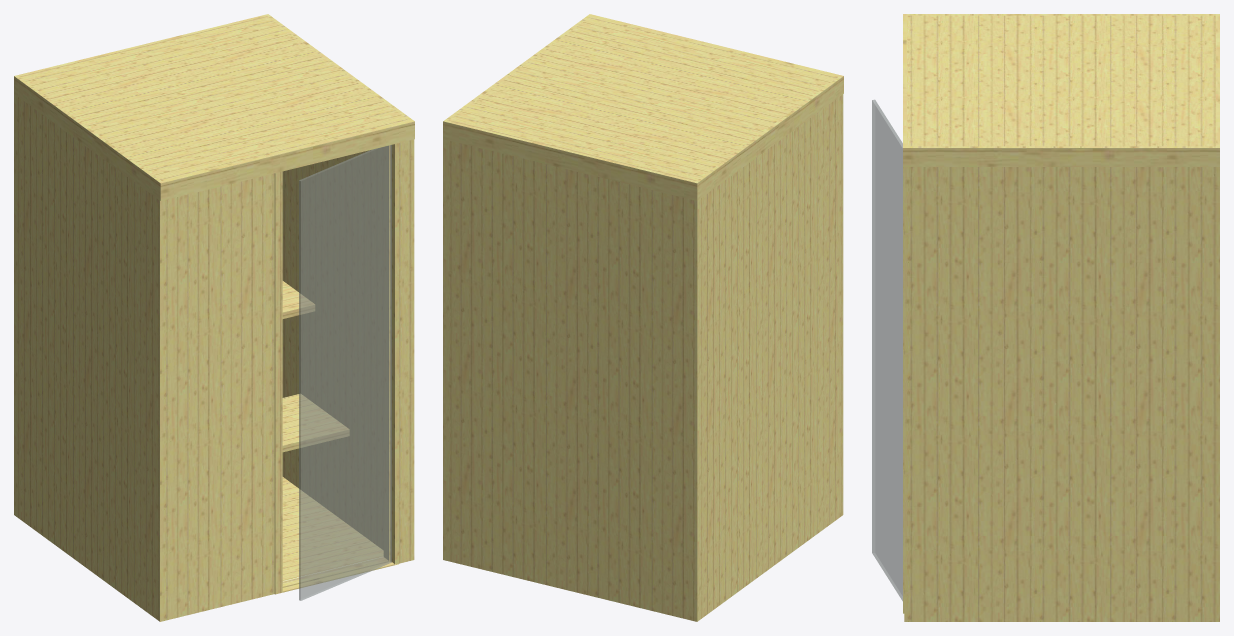
File: sweethome3d-contributions-sauna-404.glb
3 renders of one model, left to right at view 1: azimuth 30°, elevation 25°; view 2: azimuth 150°, elevation 25°; view 3: azimuth 270°, elevation 25°, orthographic. The views are drawn at different scales.
Parts seen in each view (by area): view 1: 2_2, 22_22, 17_17, 1_1, 4_4, 14_14, 23_23, 3_3, 28_28; view 2: 2_2, 17_17, 4_4; view 3: 2_2, 17_17, 22_22, 4_4, 1_1.
Part boxes in pixels (x1,y1,x2,y2): 2_2: [14, 94, 414, 621]; 22_22: [299, 145, 391, 600]; 17_17: [19, 16, 409, 181]; 1_1: [274, 143, 398, 594]; 4_4: [14, 14, 414, 200]; 14_14: [282, 477, 383, 580]; 23_23: [282, 394, 349, 452]; 3_3: [282, 557, 394, 592]; 28_28: [282, 281, 314, 318]; 2_2: [443, 94, 843, 621]; 17_17: [448, 16, 838, 180]; 4_4: [443, 14, 843, 200]; 2_2: [904, 167, 1219, 621]; 17_17: [907, 15, 1215, 146]; 22_22: [872, 99, 902, 600]; 4_4: [903, 14, 1219, 166]; 1_1: [903, 167, 904, 613].
Bounding box in the file's own units: 120 × 198 × 132.
9 materials, 6 textured.
